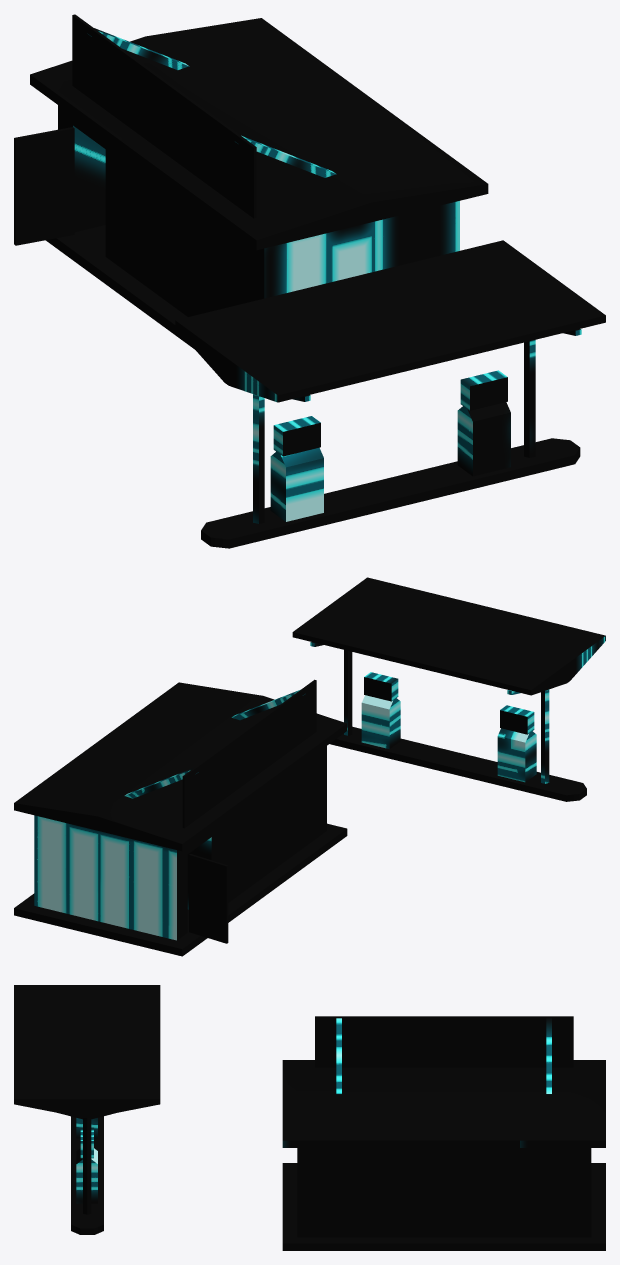
File: Building_GasStation_UNWRAPPED_01.fbx
3 renders of one model, top to bottom at view 1: azimuth 30°, elevation 25°; view 2: azimuth 150°, elevation 25°; view 3: azimuth 270°, elevation 25°, orthographic. The views are drawn at different scales.
Visible parts, largest first — view 1: Building_Gasstation1; view 2: Building_Gasstation1; view 3: Building_Gasstation1.
Part boxes in pixels (x1,y1,x2,y2): Building_Gasstation1: (14, 14, 605, 548); Building_Gasstation1: (14, 577, 605, 956); Building_Gasstation1: (14, 985, 605, 1250).
Size of the model in its own units: 1207 by 629 by 2070.
